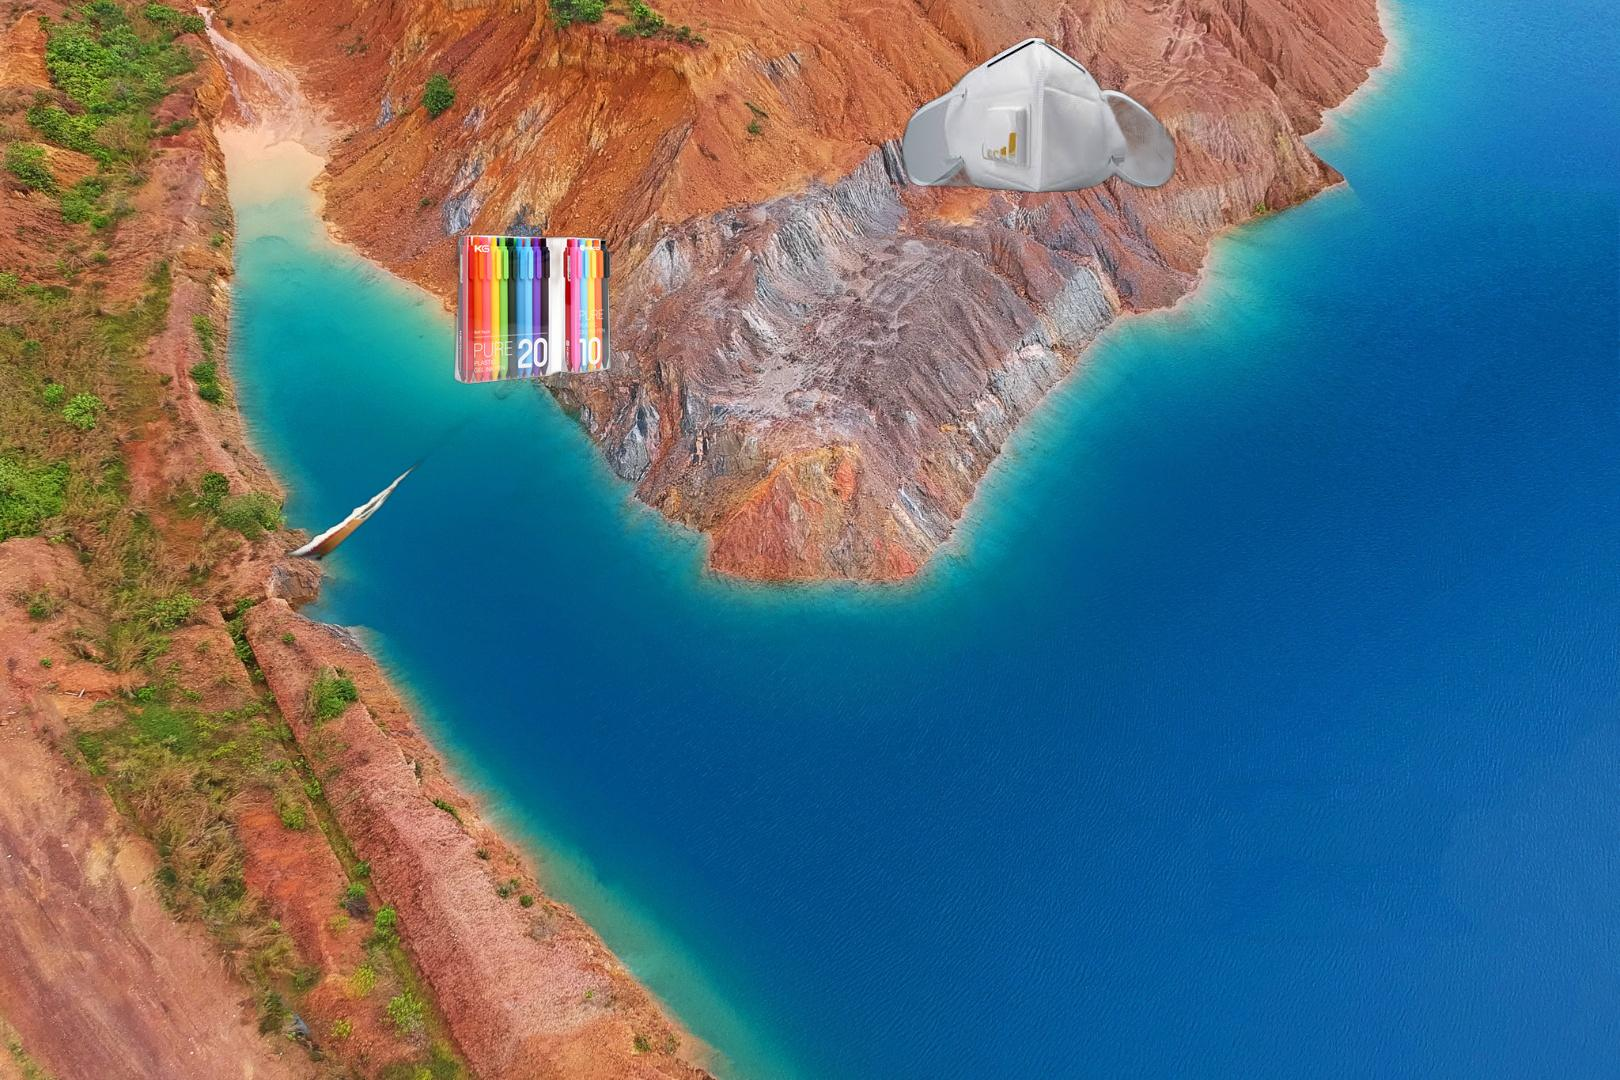paper: (272, 368, 532, 564)
penholder: (439, 229, 615, 387)
trash: (900, 34, 1175, 196)
trashbox-cardboard: (575, 987, 1087, 1080)
